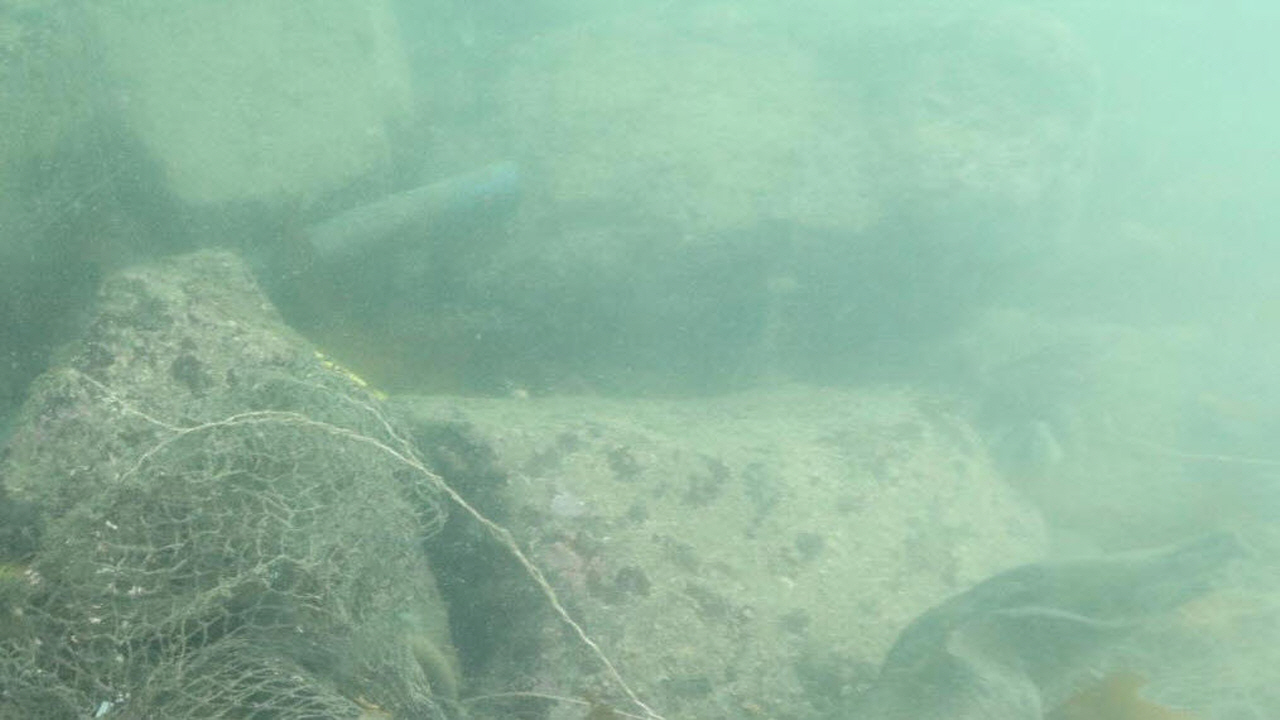fish net: (0, 395, 447, 720)
